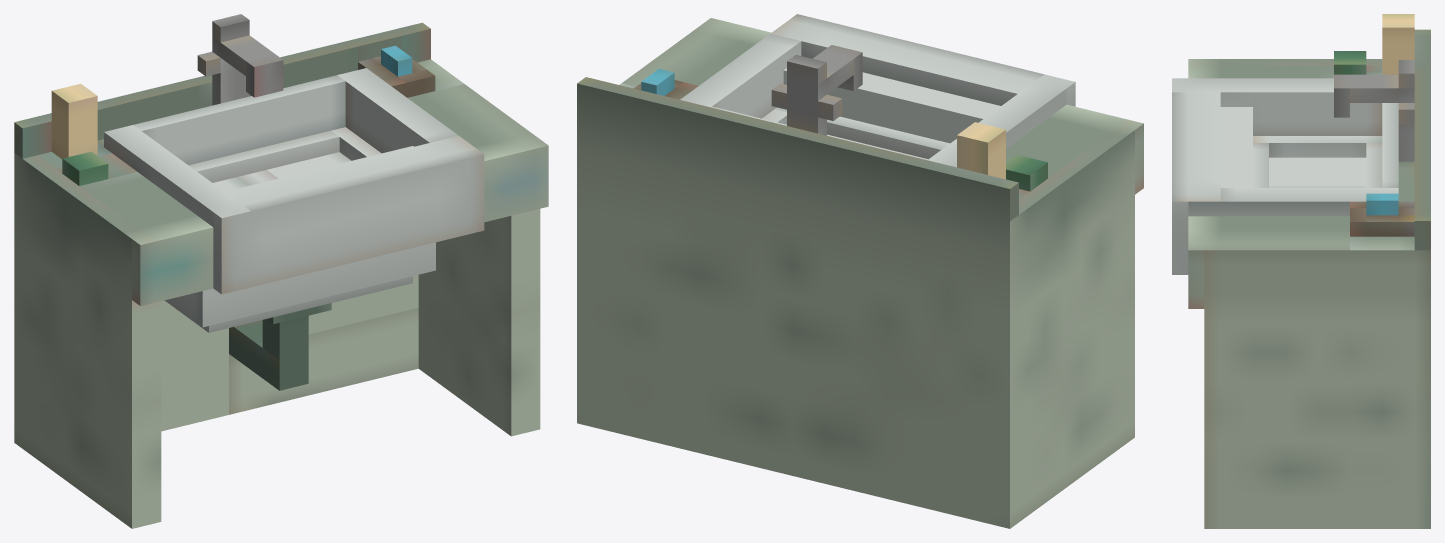
File: SinkKitchen_00.obj
The picture shows the model from 3 angles, left to right: view 1: azimuth 30°, elevation 25°; view 2: azimuth 150°, elevation 25°; view 3: azimuth 270°, elevation 25°; orthographic projection. The views are drawn at different scales.
Parts seen in each view (by area): view 1: SinkKitchen_00; view 2: SinkKitchen_00; view 3: SinkKitchen_00.
Boxes of the visible parts, bbox=[...] form: SinkKitchen_00: bbox=[14, 14, 548, 528]; SinkKitchen_00: bbox=[577, 14, 1143, 528]; SinkKitchen_00: bbox=[1172, 14, 1430, 528].
Size of the model in its own units: 1.4 by 1.25 by 0.8.
